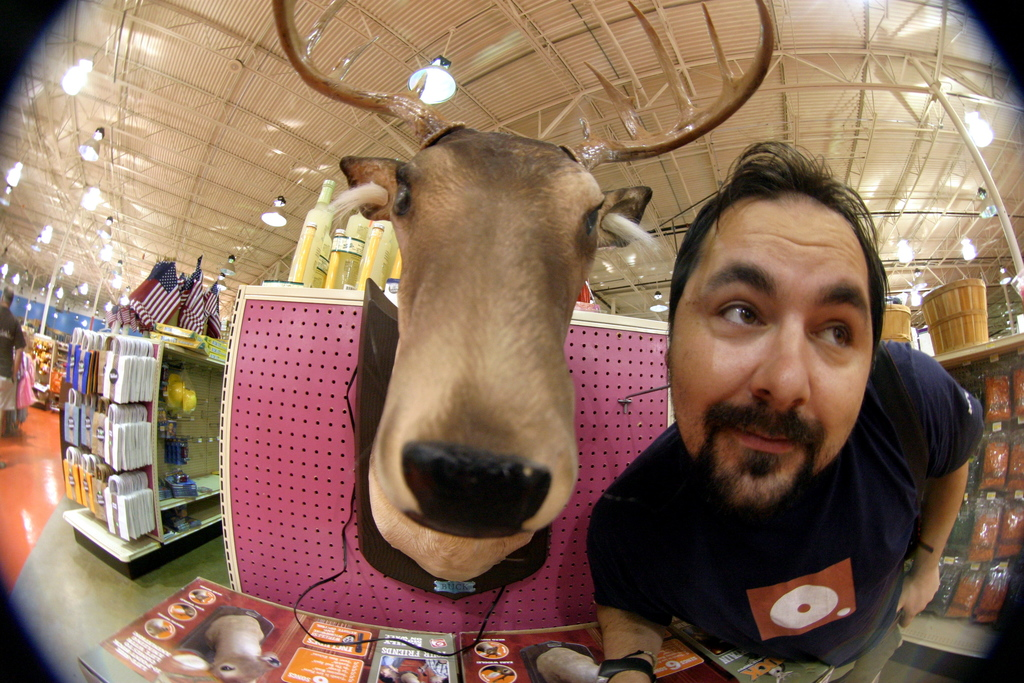Animal: (273, 0, 774, 584)
